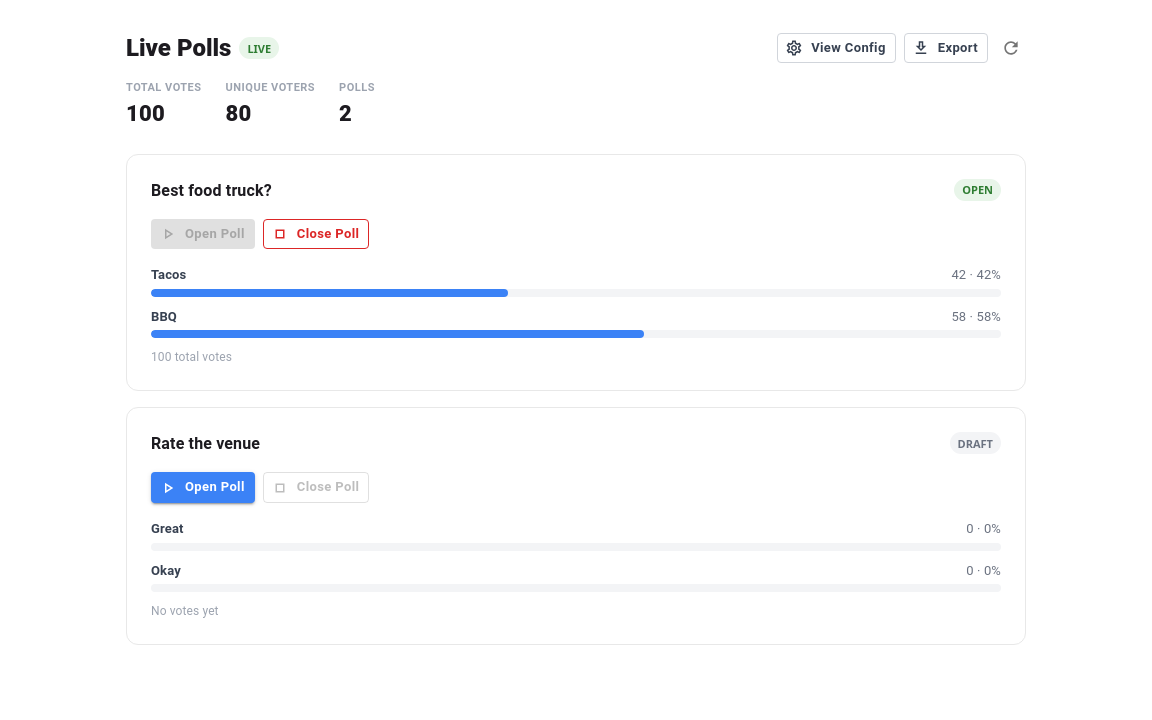
Test: LivePollLiveDashboard › opens the View Config modal with instance config
Expected: the text "Best food truck?" is shown, x1=151 y1=180 x2=272 y2=200
Click the button "View Config". click: click(836, 48)
box: x1=777 y1=33 x2=896 y2=63
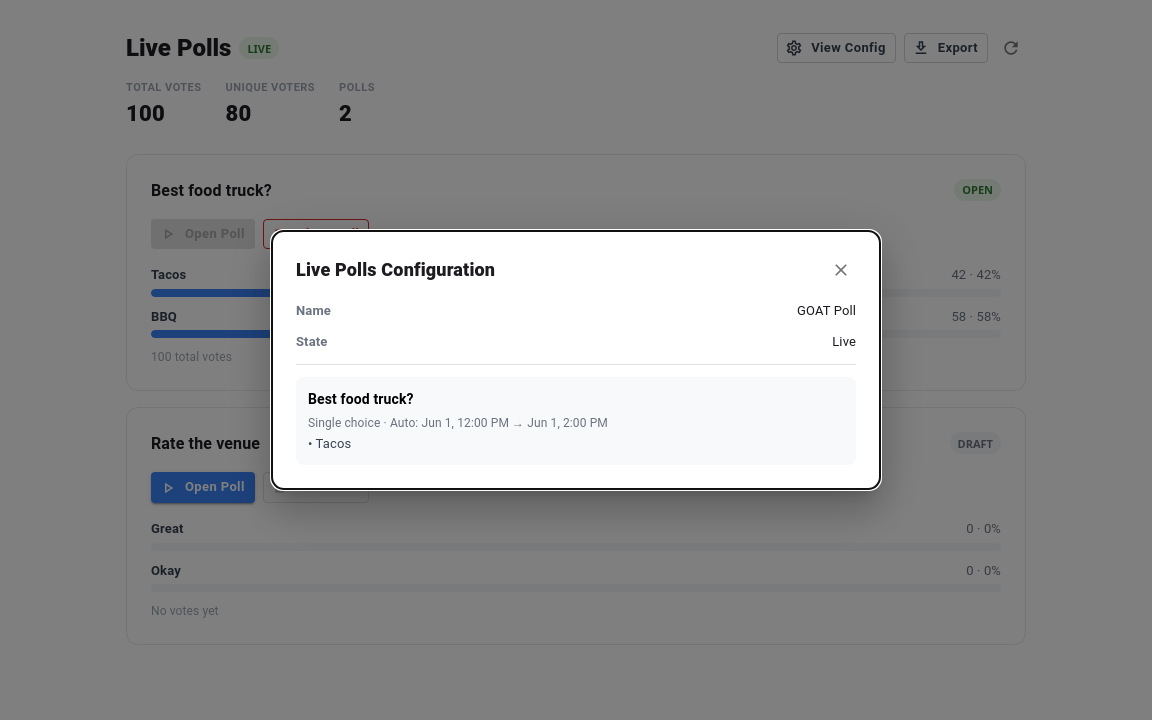
Now the text "GOAT Poll" is shown, box x1=797 y1=301 x2=856 y2=320
Now the text "Single choice · Auto: Jun 1, 12:00 PM → Jun 1, 2:00 PM" is shown, box x1=308 y1=416 x2=608 y2=430
